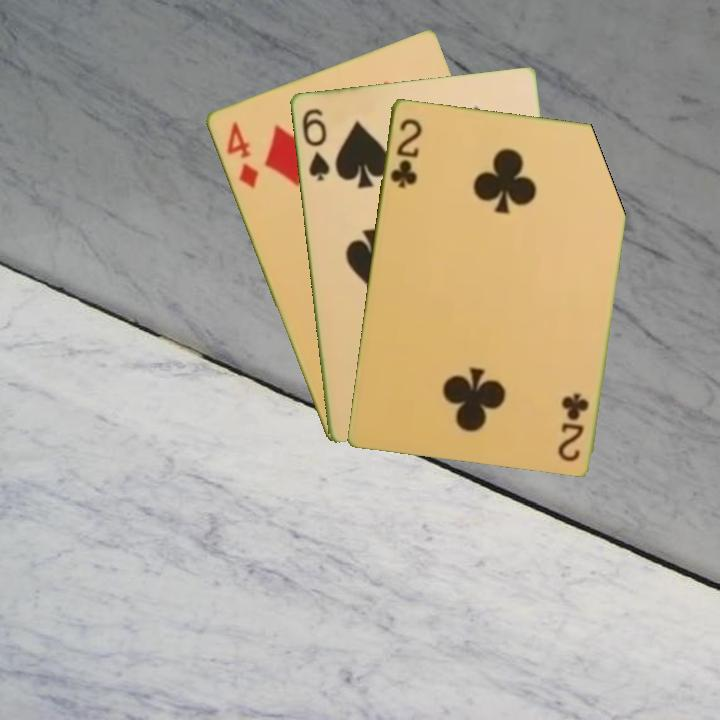2c: (386, 114, 425, 191), (555, 389, 592, 464)
4d: (222, 117, 261, 191)
6s: (298, 105, 332, 183)
